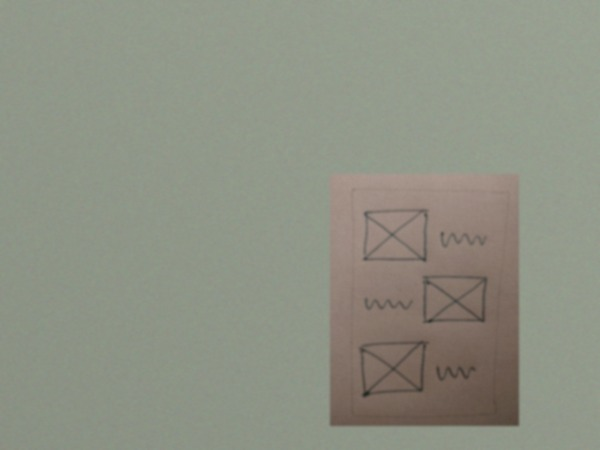image: (357, 340, 429, 400), (362, 205, 428, 264), (419, 274, 489, 326)
text: (437, 227, 489, 254), (362, 293, 416, 316), (433, 361, 478, 385)
